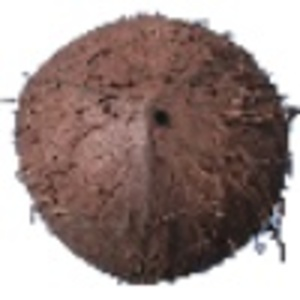coco: (11, 13, 300, 287)
